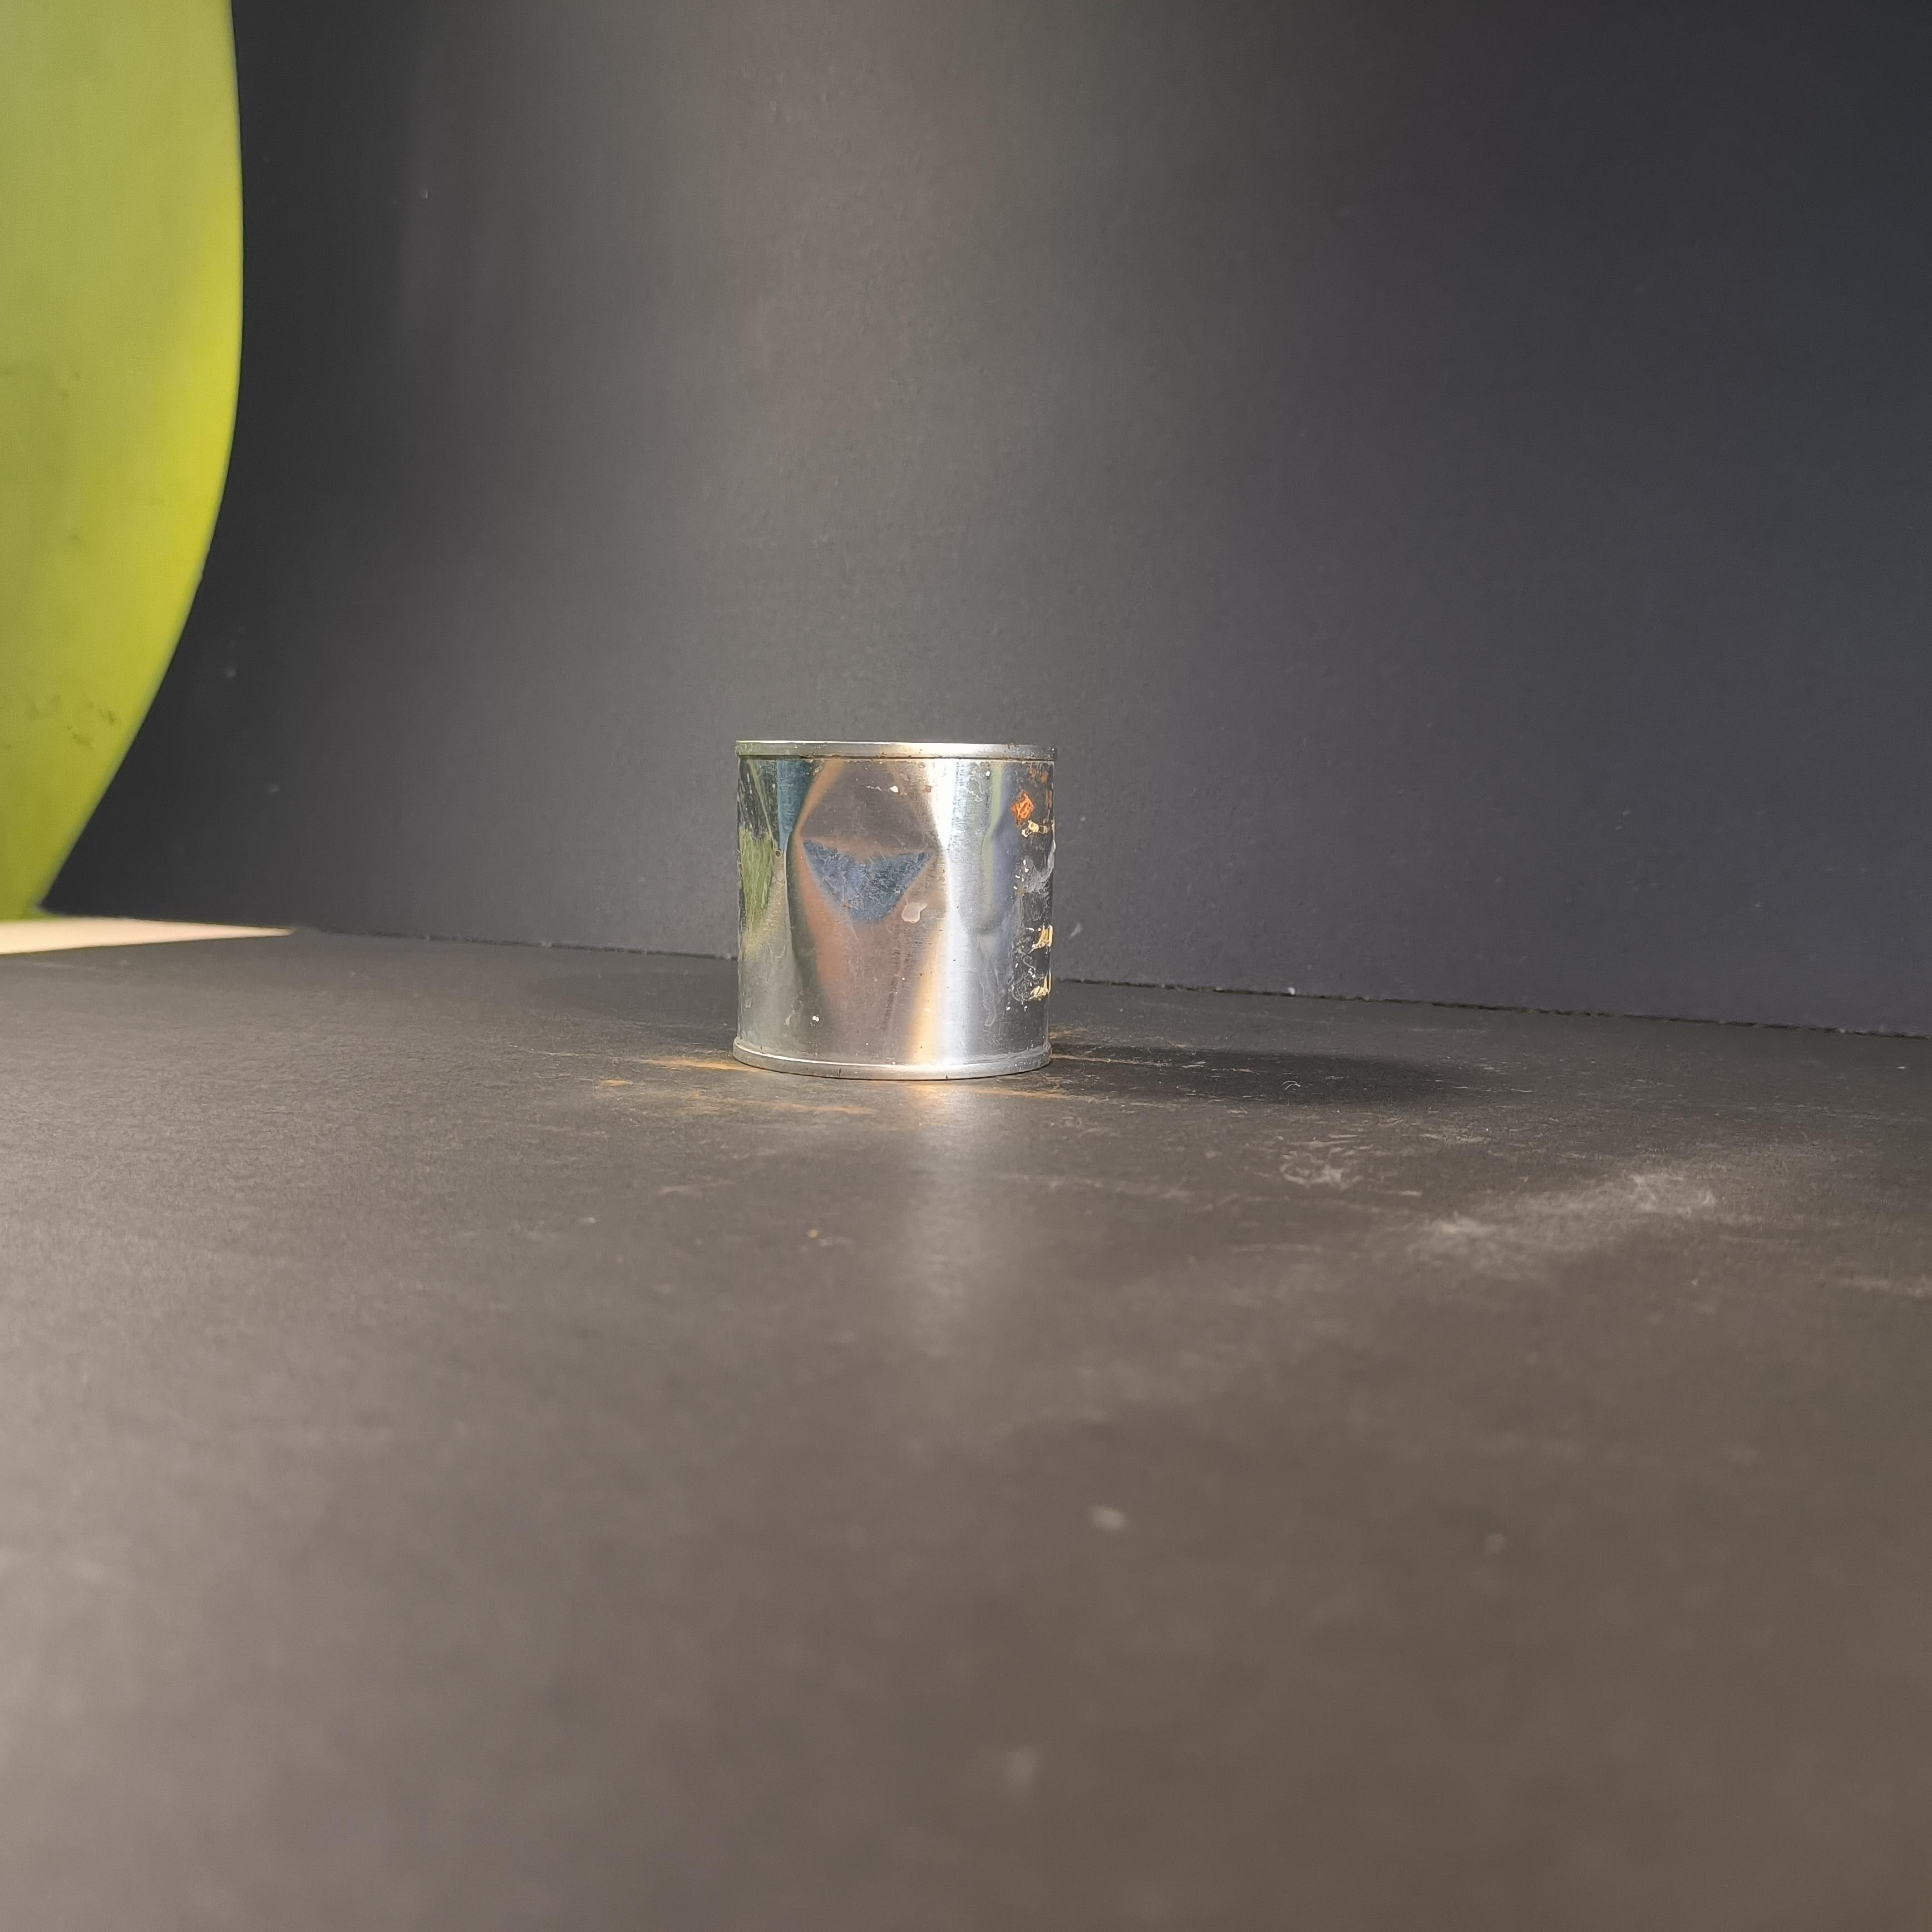Dented: (709, 701, 1070, 1077)
